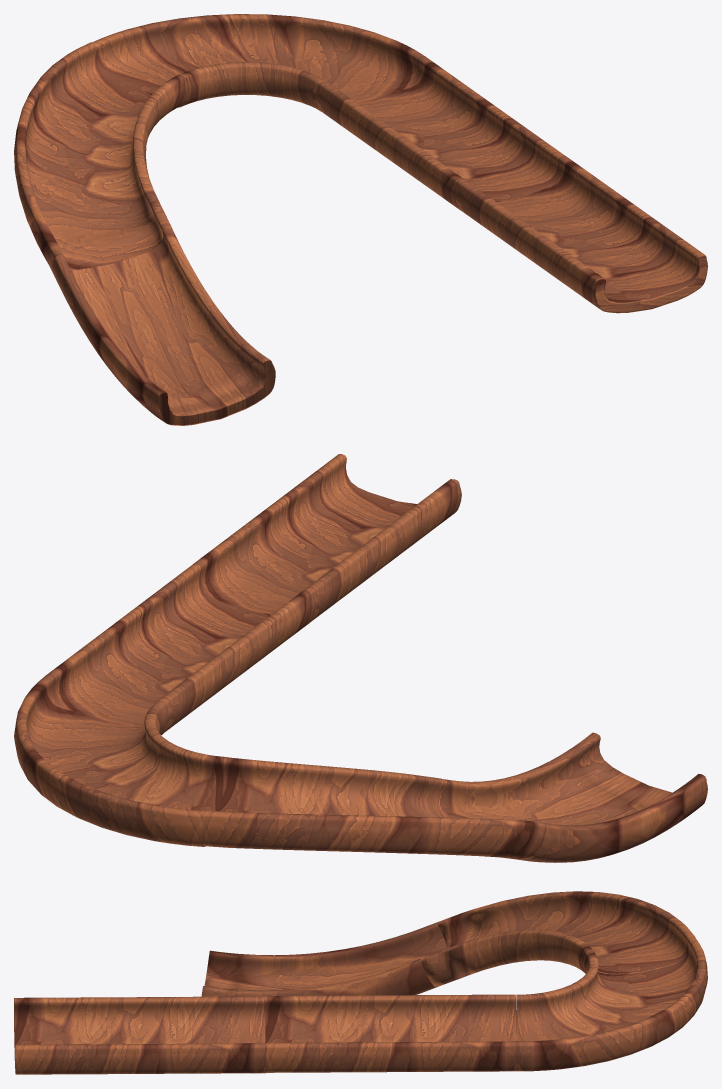
Rendered from slider+combine.fbx.
3 renders of one model, top to bottom at view 1: azimuth 30°, elevation 25°; view 2: azimuth 150°, elevation 25°; view 3: azimuth 270°, elevation 25°, orthographic. The views are drawn at different scales.
Visible parts, largest first — view 1: strait_slide8; view 2: strait_slide8; view 3: strait_slide8.
Part boxes in pixels (x1=…): strait_slide8: x1=14, y1=14, x2=707, y2=425; strait_slide8: x1=14, y1=454, x2=707, y2=862; strait_slide8: x1=14, y1=891, x2=707, y2=1074.
Size of the model in its own units: 224 by 72.8 by 330.
